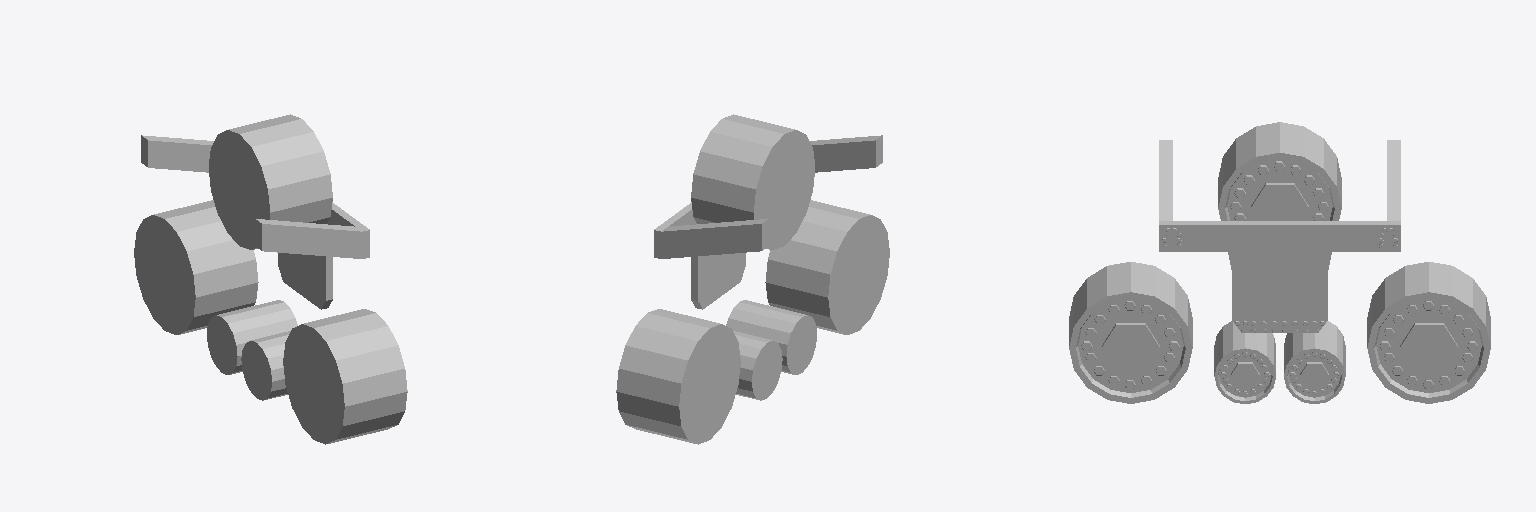
Rendered from poplarframe.obj.
3 renders of one model, left to right at view 1: azimuth 30°, elevation 25°; view 2: azimuth 150°, elevation 25°; view 3: azimuth 270°, elevation 25°, orthographic.
Visible parts, largest first — view 1: Rollerb_3, Rollerb_0, Rollerb_4, Cube.006_Cube.047, Rollerb_1, Rollerb_2; view 2: Rollerb_0, Rollerb_3, Rollerb_4, Cube.006_Cube.047, Rollerb_2, Rollerb_1; view 3: Cube.006_Cube.047, Rollerb_0, Rollerb_3, Rollerb_4, Rollerb_1, Rollerb_2.
Part boxes in pixels (x1,y1,x2,y2): Rollerb_3: (283,309,407,444); Rollerb_0: (134,200,258,334); Rollerb_4: (209,114,332,249); Cube.006_Cube.047: (141,135,369,309); Rollerb_1: (207,300,297,374); Rollerb_2: (241,331,290,400); Rollerb_0: (616,309,740,444); Rollerb_3: (765,200,889,334); Rollerb_4: (691,114,814,249); Cube.006_Cube.047: (654,135,882,309); Rollerb_2: (726,300,816,374); Rollerb_1: (733,331,782,400); Cube.006_Cube.047: (1159,140,1400,332); Rollerb_0: (1367,262,1490,403); Rollerb_3: (1069,262,1192,403); Rollerb_4: (1218,122,1341,220); Rollerb_1: (1284,321,1345,403); Rollerb_2: (1214,321,1275,403).
Bounding box in the file's own units: 0.7213 × 1.6 × 2.43.